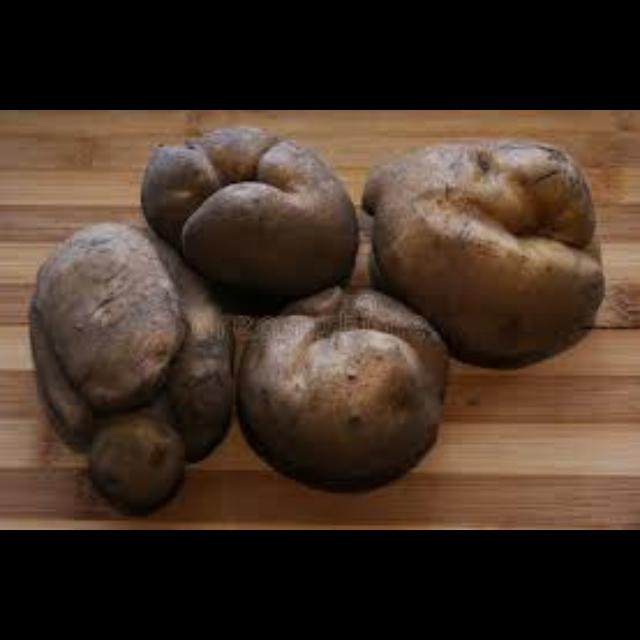Damaged potato: (346, 114, 608, 373), (18, 217, 234, 515), (228, 269, 460, 497), (142, 116, 362, 300)
